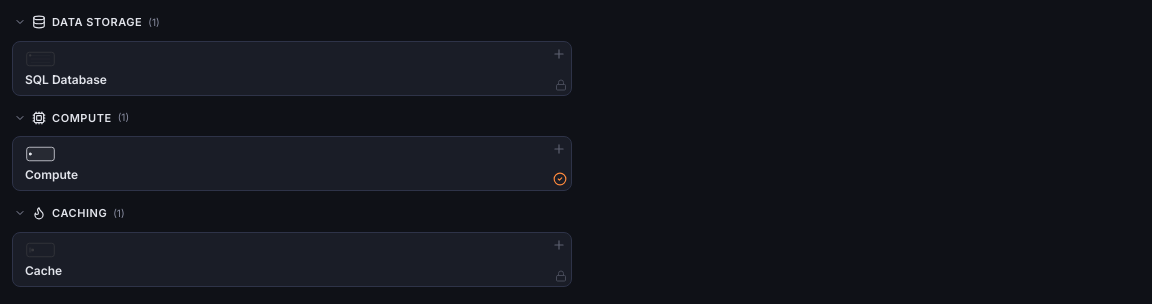
Test case: ComponentTab › collapsible category sections › collapsing a category hides its blocks but keeps others
Click the button with test id "category-toggle-data-storage" at (97, 22), box [12, 12, 1140, 32]
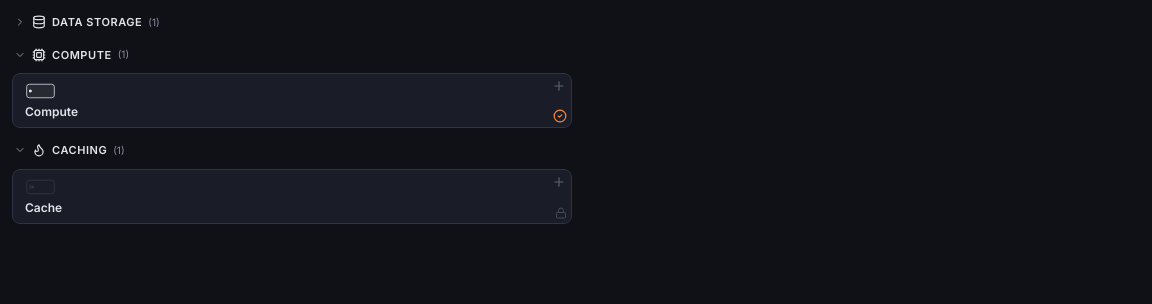
Check: the element with test id "type-block-cache" is shown, box [12, 168, 572, 224]
Check: the button with test id "category-toggle-data-storage" is collapsed, box [12, 12, 1140, 32]
Check: the element with test id "type-block-relational-db" is gone
